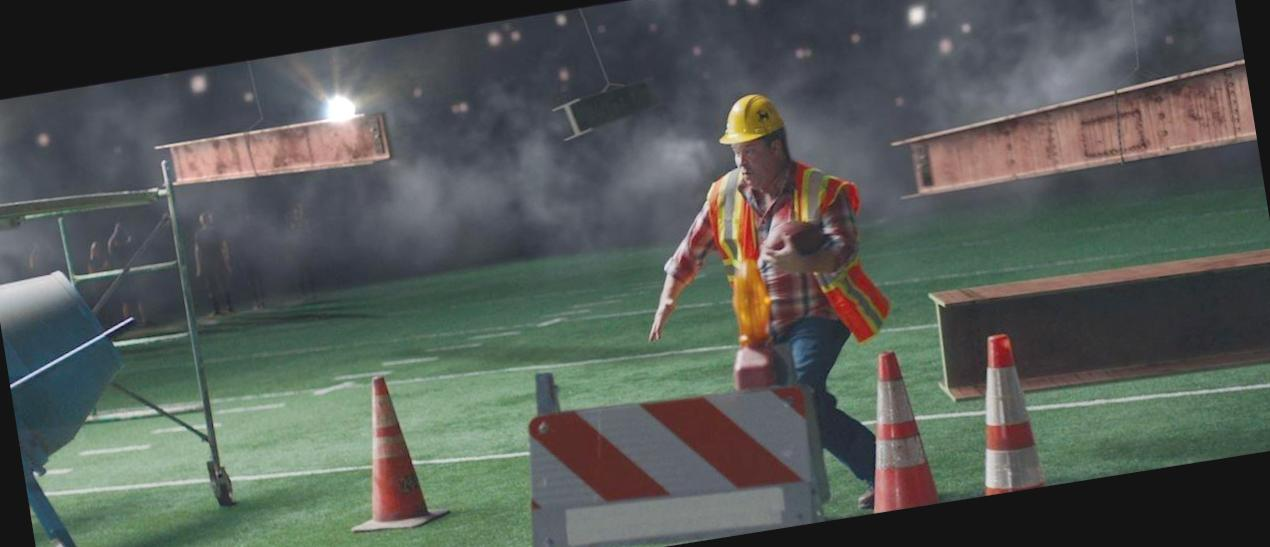helmet: (710, 88, 794, 148)
person: (675, 65, 889, 383)
